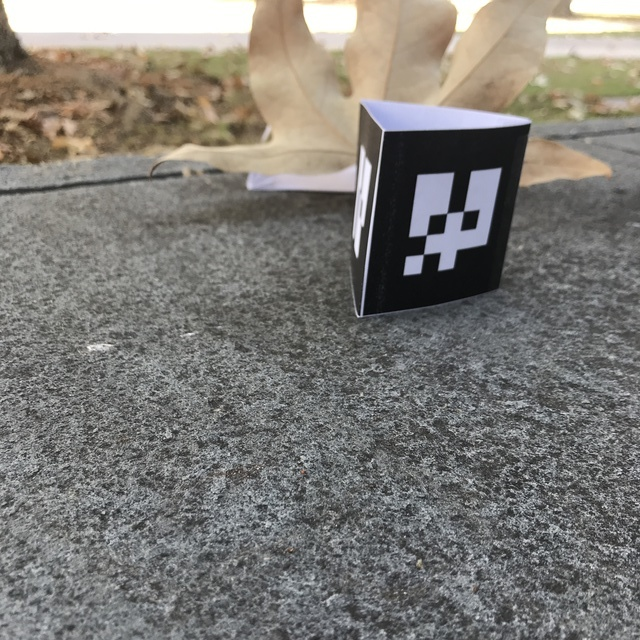ARTag: (348, 99, 532, 318)
